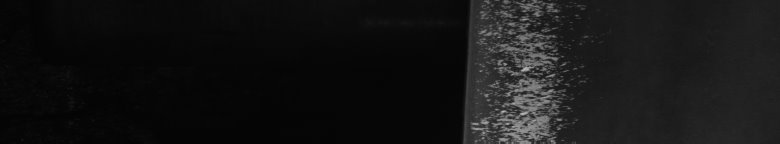kb: (480, 4, 544, 136)
